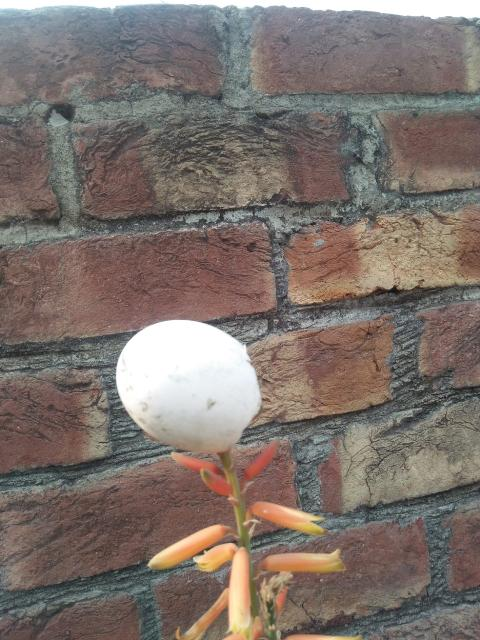Roto: (114, 318, 262, 454)
